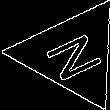N_NE: (36, 24, 108, 83)
